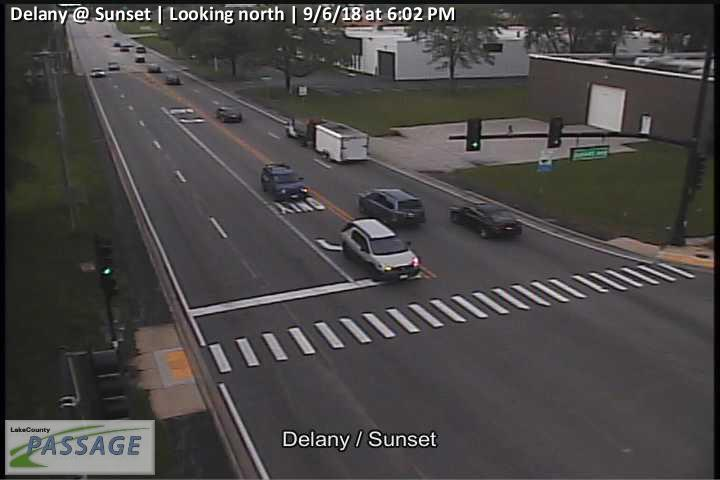SUV: (341, 217, 420, 281), (359, 188, 424, 224), (262, 164, 309, 202)
Sedan: (448, 203, 522, 239), (215, 107, 242, 123), (164, 74, 179, 85), (91, 68, 105, 76), (148, 63, 160, 72), (108, 61, 119, 70), (136, 45, 145, 53), (135, 55, 145, 62), (119, 45, 128, 51)
Truck: (310, 120, 371, 165), (287, 115, 324, 147)
